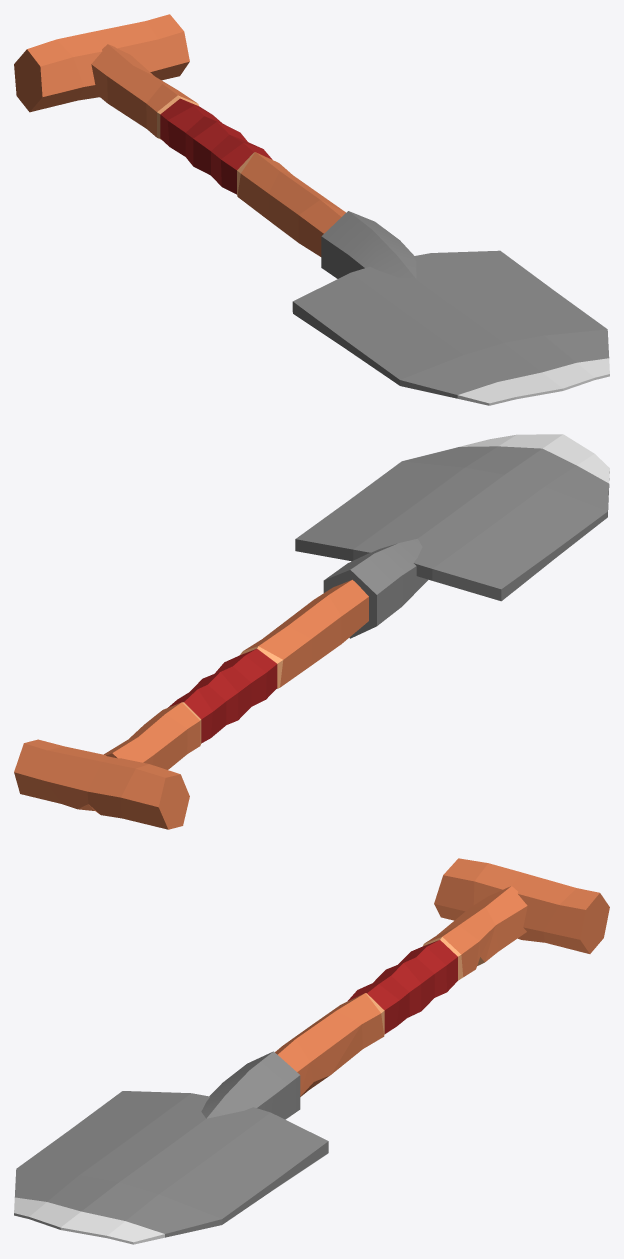
The model's file is wooden_shovel.glb.
3 renders of one model, top to bottom at view 1: azimuth 30°, elevation 25°; view 2: azimuth 150°, elevation 25°; view 3: azimuth 330°, elevation 25°, orthographic.
Visible parts, largest first — view 1: DirtMover_Shovel; view 2: DirtMover_Shovel; view 3: DirtMover_Shovel.
Boxes of the visible parts, bbox=[...] form: DirtMover_Shovel: bbox=[14, 14, 609, 405]; DirtMover_Shovel: bbox=[14, 434, 609, 829]; DirtMover_Shovel: bbox=[14, 858, 609, 1244].
Size of the model in its own units: 0.4999 by 0.16 by 2.
1 material, 1 textured.
